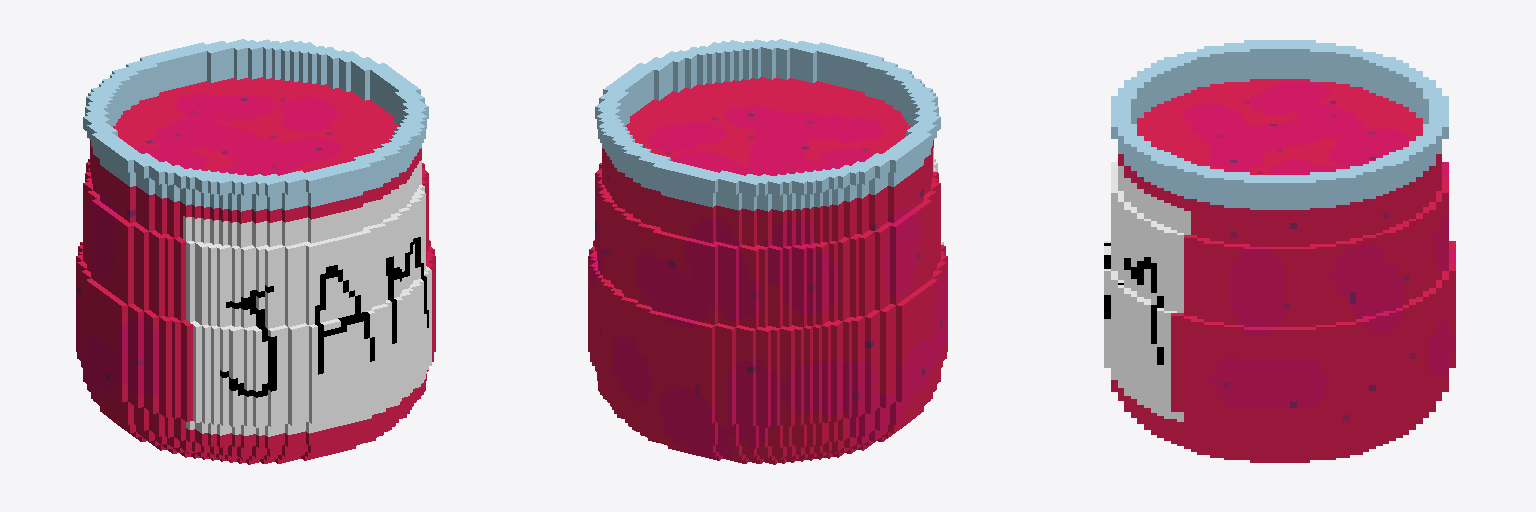
3 views of the same model, side by side, from view 1: azimuth 30°, elevation 25°; view 2: azimuth 150°, elevation 25°; view 3: azimuth 270°, elevation 25° (orthographic).
Bounding box in the file's own units: 53 × 48 × 53.
1 materials, 1 textured.